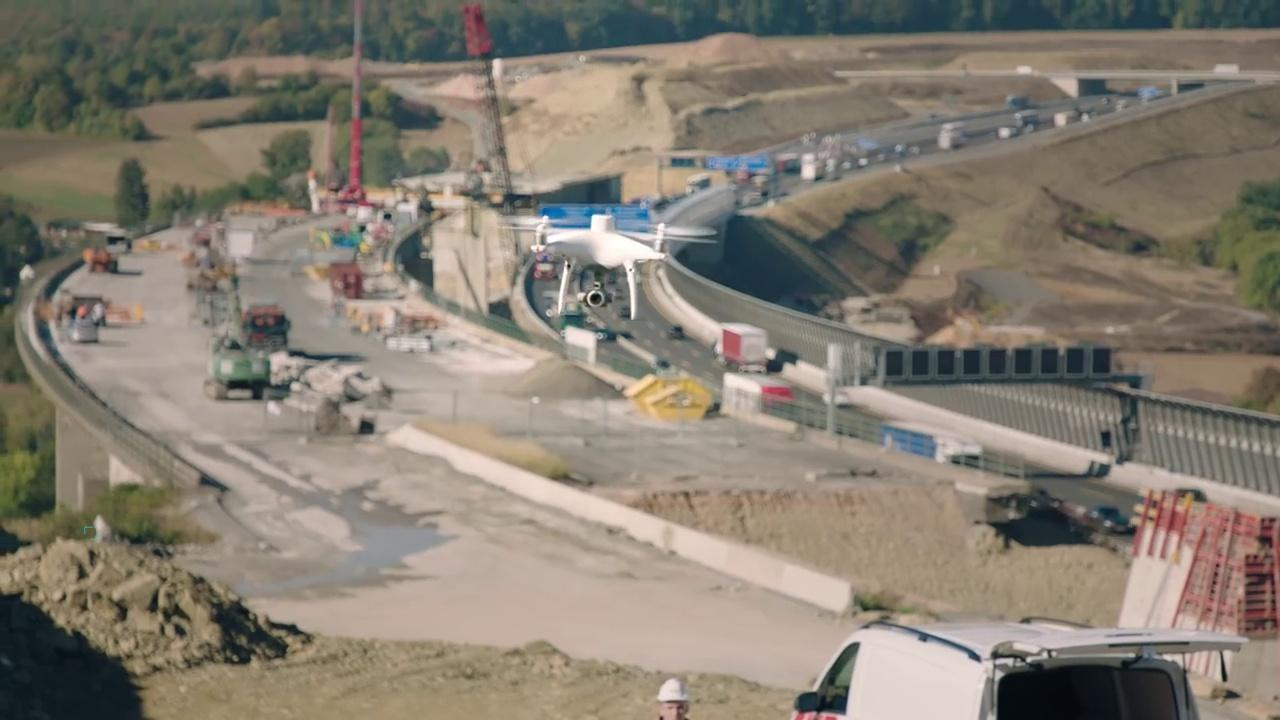drone: (502, 211, 719, 319)
